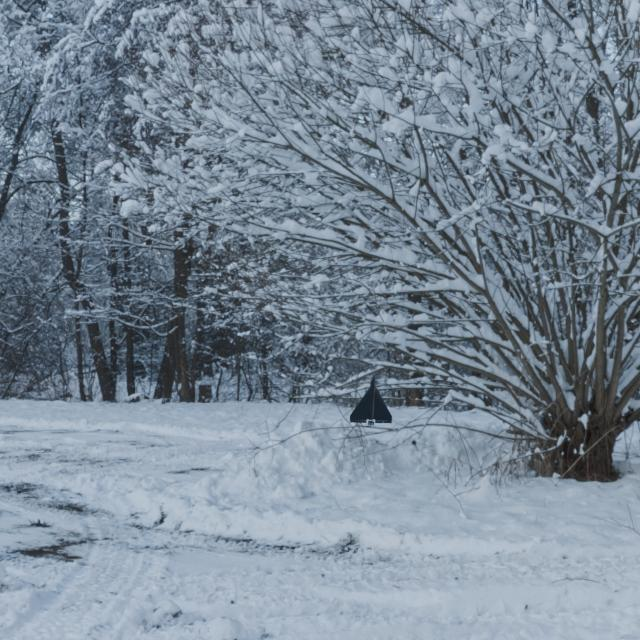Airaplan: (350, 377, 393, 427)
